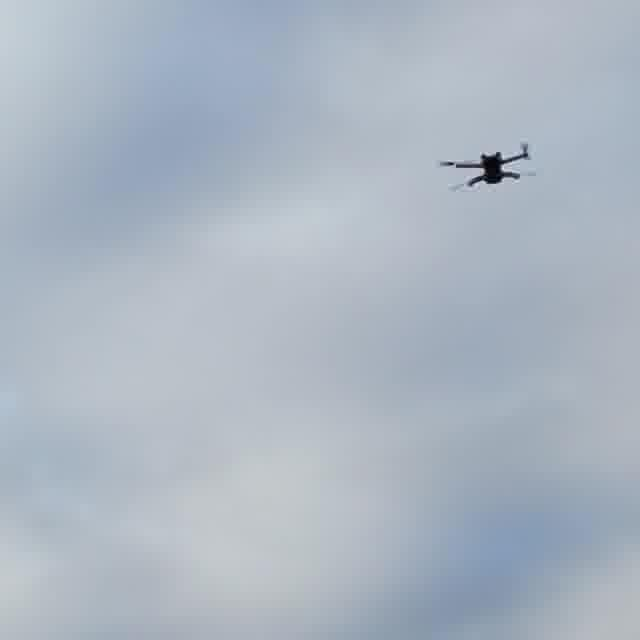Drohne: (441, 144, 528, 186)
